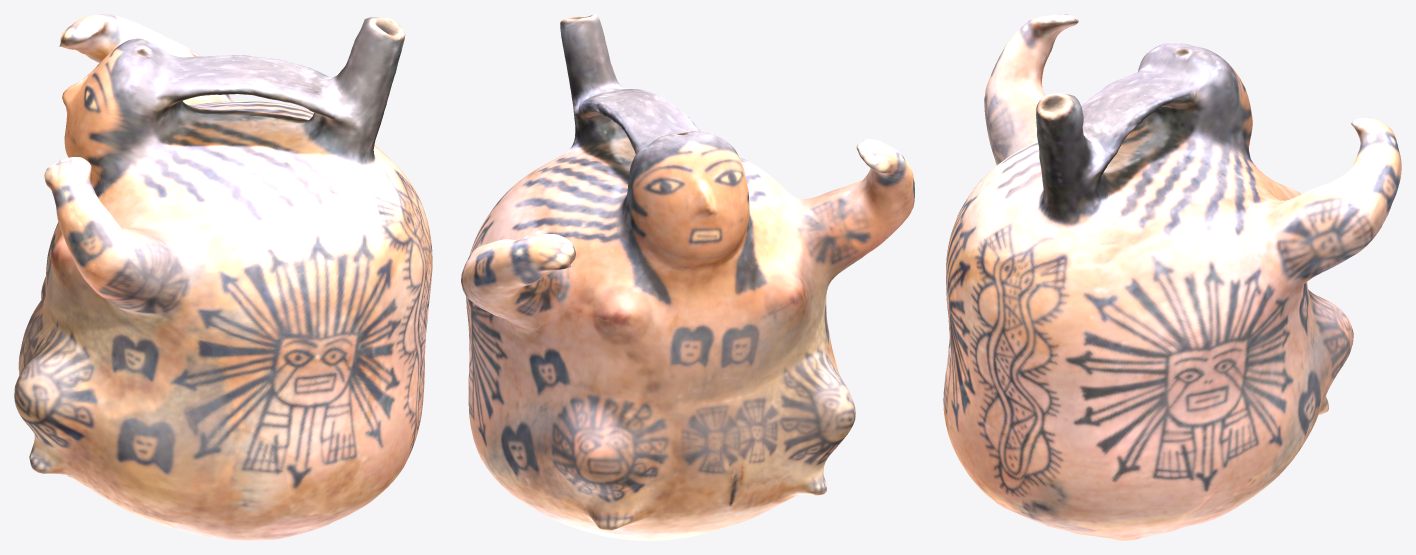
File: botella_escultorica_nasca.glb
3 views of the same model, side by side, from view 1: azimuth 30°, elevation 25°; view 2: azimuth 150°, elevation 25°; view 3: azimuth 270°, elevation 25° (orthographic). The views are drawn at different scales.
Parts seen in each view (by area): view 1: Model; view 2: Model; view 3: Model.
Boxes of the visible parts, x1,y1,x2,y2 form: Model: (14, 14, 432, 540); Model: (461, 14, 914, 540); Model: (943, 14, 1401, 540).
Bounding box in the file's own units: 2.52 × 2.97 × 2.63.
